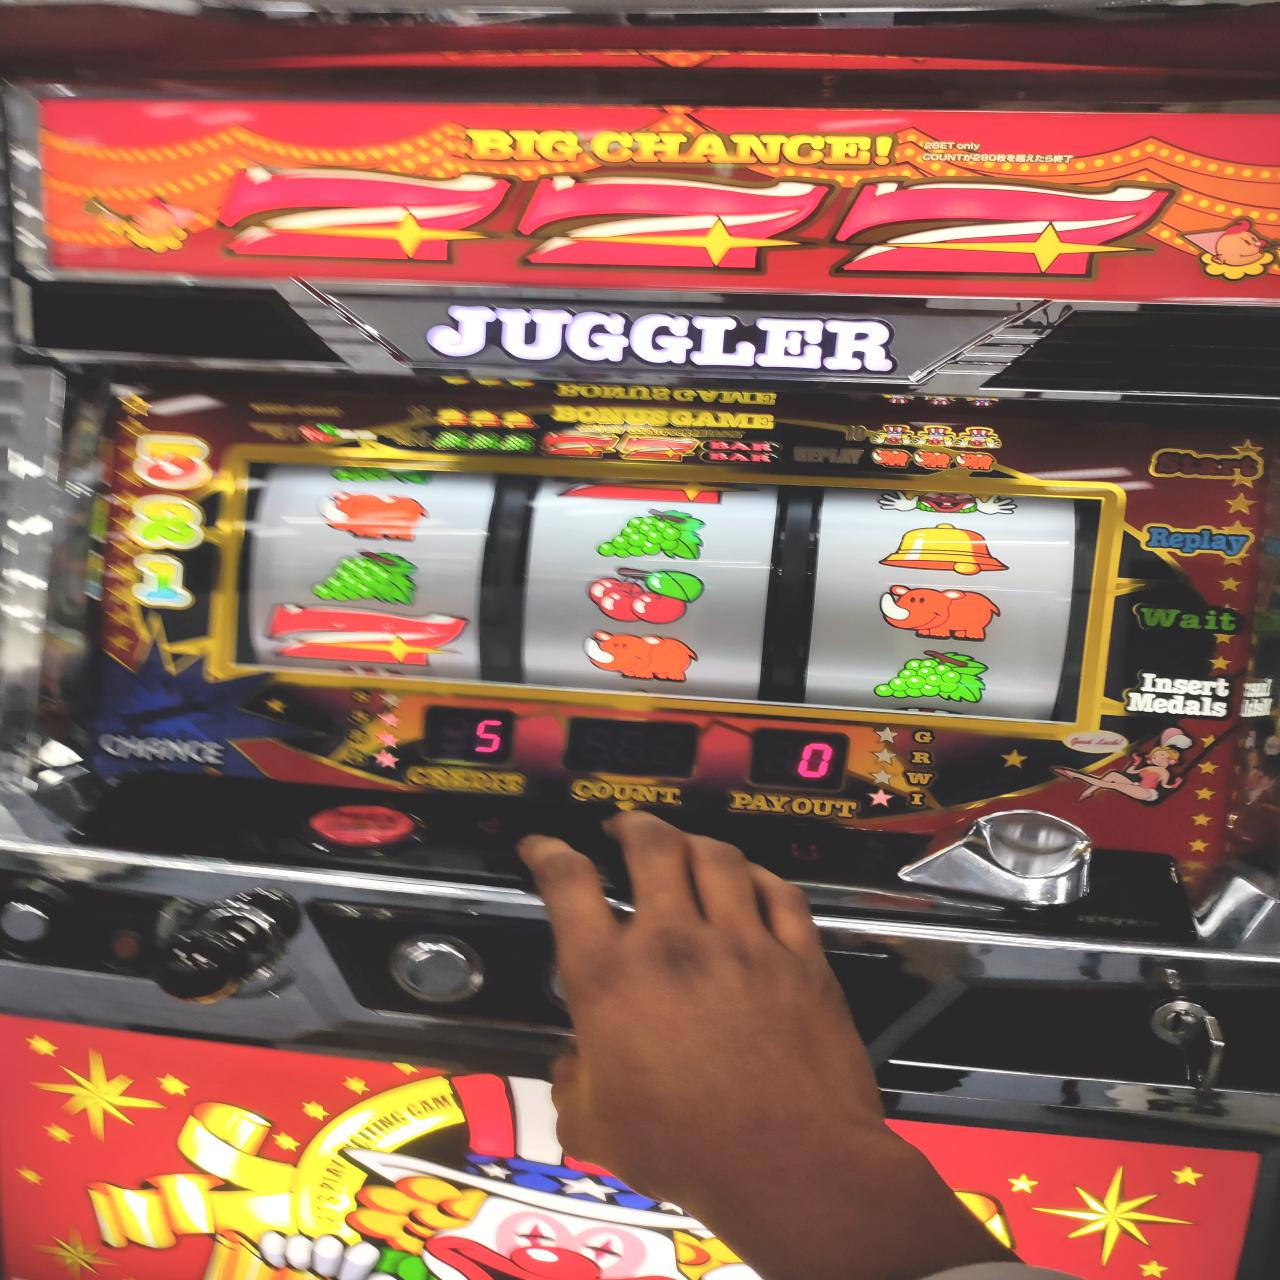8: (872, 584, 1002, 642), (583, 629, 697, 683)
bell: (880, 525, 1009, 576)
cherry: (586, 565, 702, 621)
grape: (586, 506, 712, 561), (872, 648, 990, 703)
rhino: (230, 441, 1095, 730)
